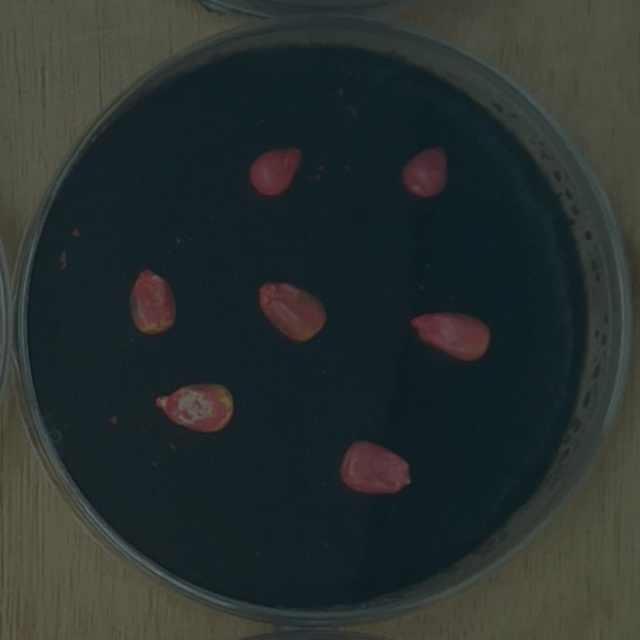Zea mays: (249, 273, 334, 349), (404, 305, 499, 369), (147, 375, 240, 438), (334, 433, 418, 500), (123, 260, 184, 343), (242, 140, 309, 203), (393, 138, 454, 205)
